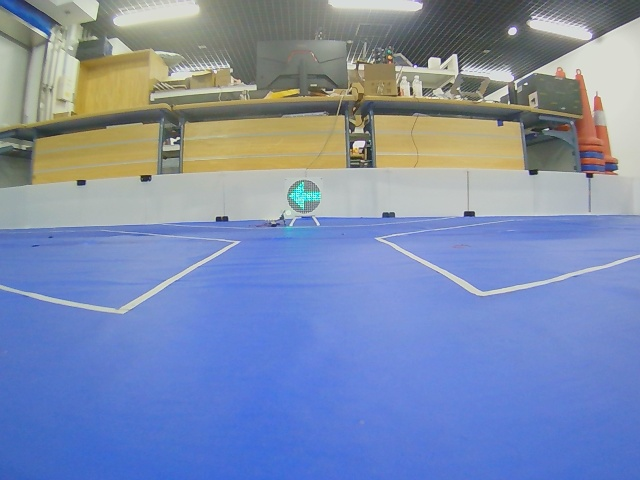left_green: (287, 180, 322, 214)
